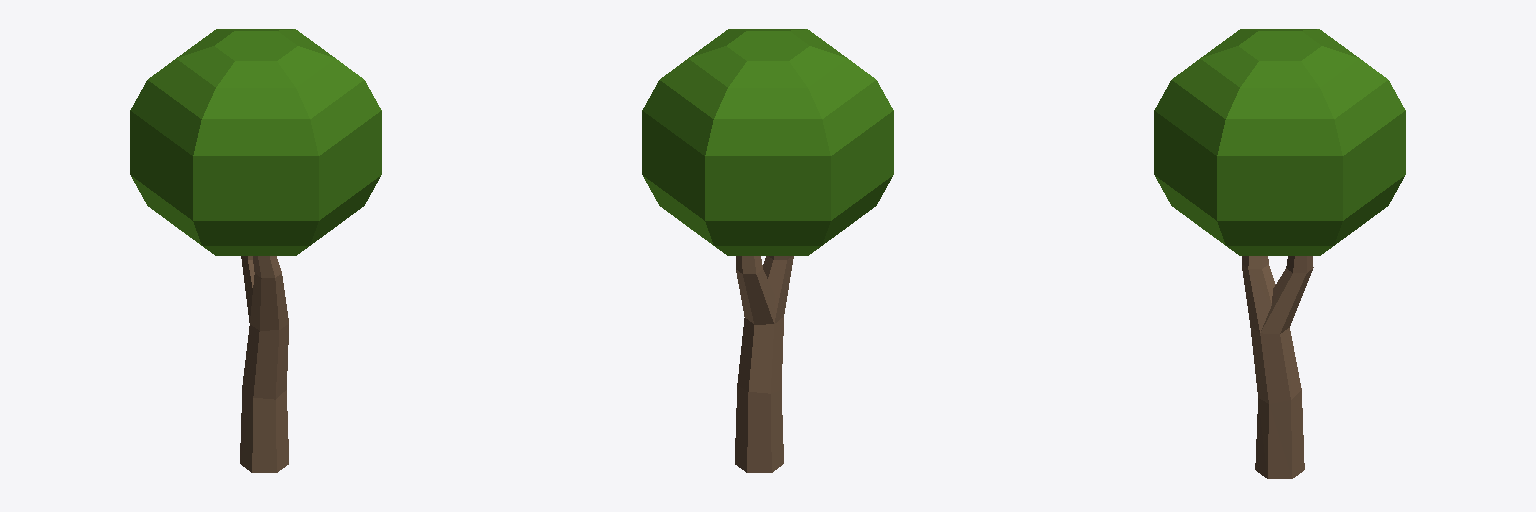
Rendered from Prop_Tree_Oak_2.obj.
3 views of the same model, side by side, from view 1: azimuth 30°, elevation 25°; view 2: azimuth 150°, elevation 25°; view 3: azimuth 270°, elevation 25° (orthographic).
Visible parts, largest first — view 1: object2, object1; view 2: object2, object1; view 3: object2, object1.
Part boxes in pixels (x1,y1,x2,y2): object2: (130, 29, 381, 255); object1: (240, 256, 288, 472); object2: (642, 29, 893, 255); object1: (735, 256, 793, 472); object2: (1154, 29, 1405, 255); object1: (1242, 256, 1313, 478).
Bounding box in the file's own units: 2.2 × 4.68 × 2.54.